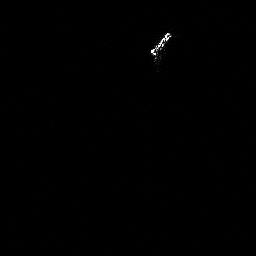ship: (150, 29, 173, 66)
